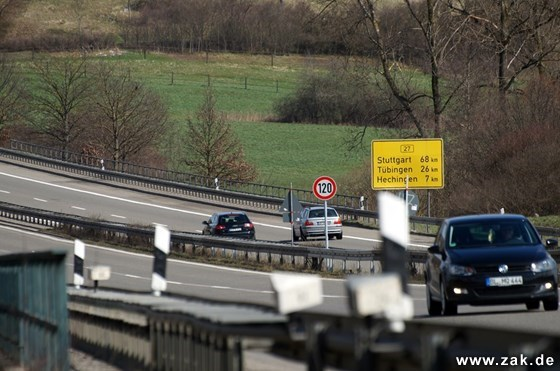Speed_limit_120km: (312, 174, 336, 200)
car: (420, 212, 559, 321)
